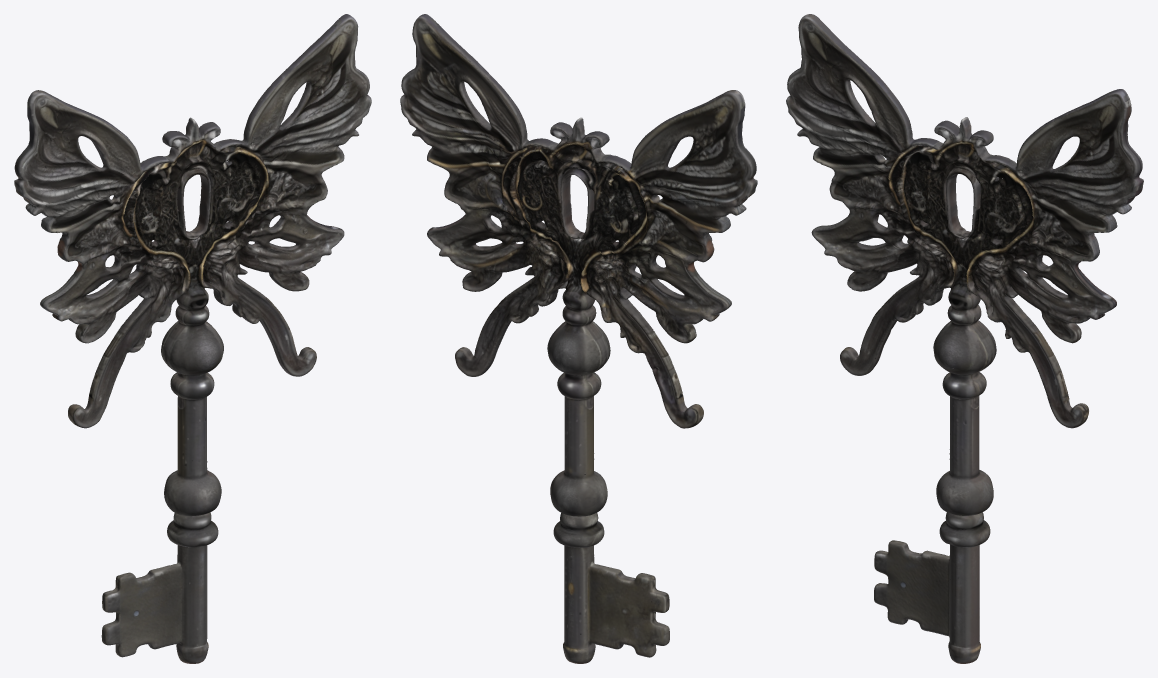
The model's file is Butterfly_Key_ultra__0908223641_texture.fbx.
3 renders of one model, left to right at view 1: azimuth 30°, elevation 25°; view 2: azimuth 150°, elevation 25°; view 3: azimuth 330°, elevation 25°, orthographic.
Parts seen in each view (by area): view 1: Mesh_0; view 2: Mesh_0; view 3: Mesh_0.
Boxes of the visible parts, x1,y1,x2,y2 form: Mesh_0: [14, 14, 371, 663]; Mesh_0: [400, 14, 757, 663]; Mesh_0: [786, 14, 1143, 663].
Size of the model in its own units: 122 by 200 by 19.24.
1 material, 1 textured.
